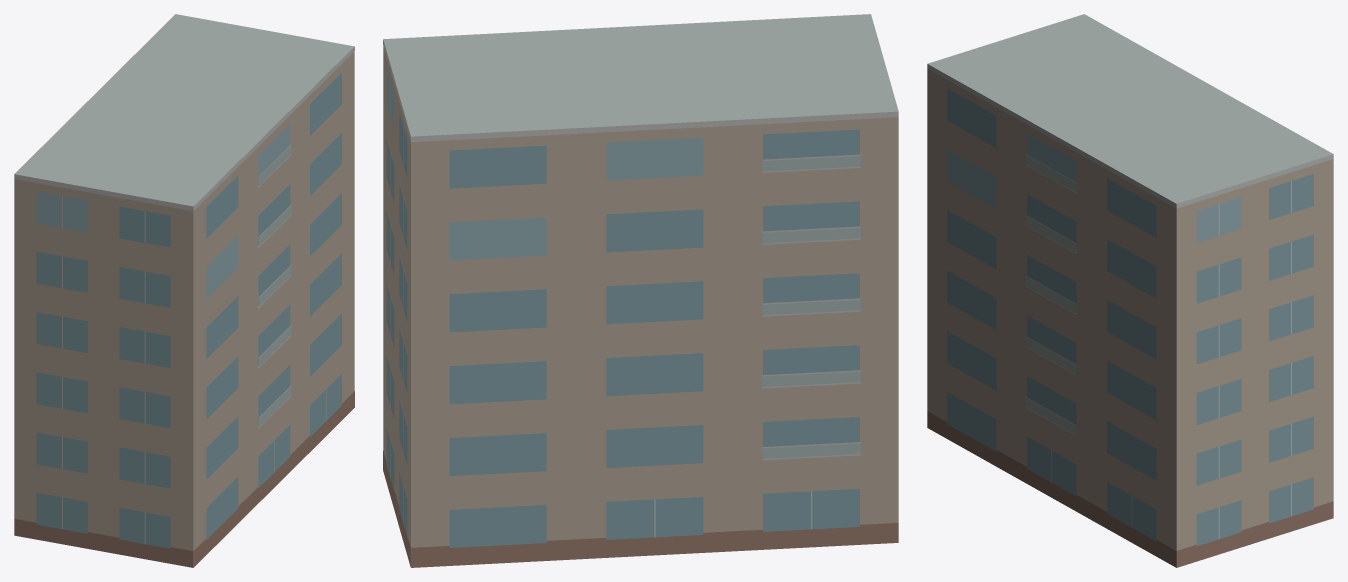
The model's file is survey-upis-33020350.glb.
3 renders of one model, left to right at view 1: azimuth 30°, elevation 25°; view 2: azimuth 150°, elevation 25°; view 3: azimuth 270°, elevation 25°, orthographic. The views are drawn at different scales.
Parts seen in each view (by area): view 1: survey-upis-33020350.tmp; view 2: survey-upis-33020350.tmp; view 3: survey-upis-33020350.tmp.
Part boxes in pixels (x1=…): survey-upis-33020350.tmp: x1=14, y1=14, x2=354, y2=567; survey-upis-33020350.tmp: x1=383, y1=14, x2=898, y2=567; survey-upis-33020350.tmp: x1=927, y1=14, x2=1333, y2=567.
Bounding box in the file's own units: 20.76 × 18.55 × 18.78.
